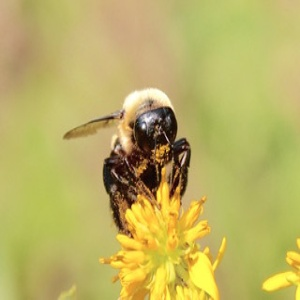bee: (63, 86, 200, 240)
